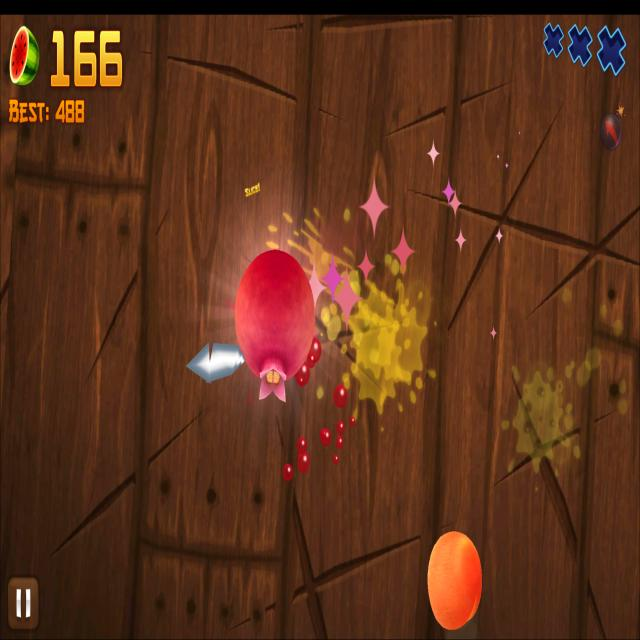fruit: (235, 248, 315, 400), (429, 531, 482, 631)
